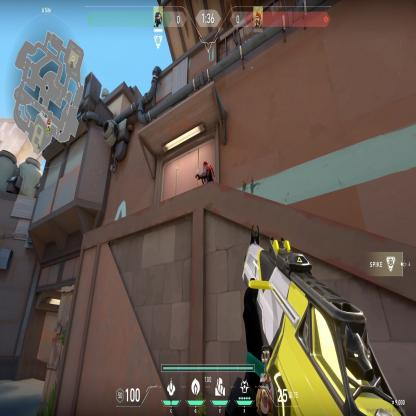enemy: (195, 160, 216, 186)
